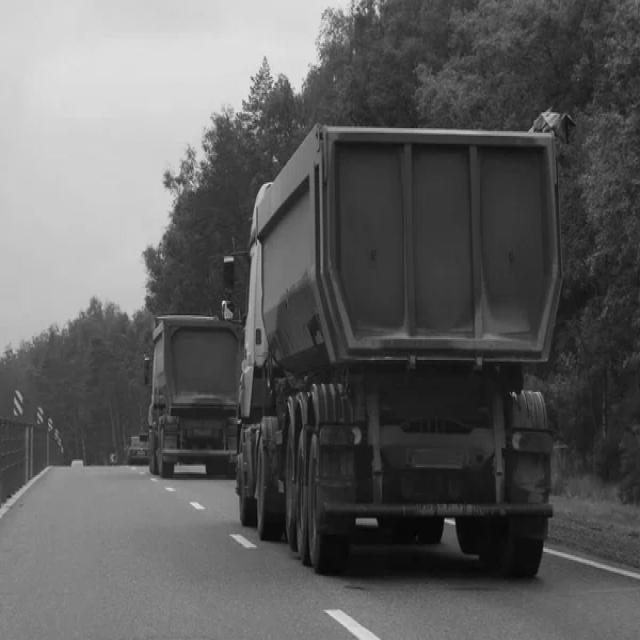Truck: (237, 125, 563, 578), (148, 315, 243, 478)
